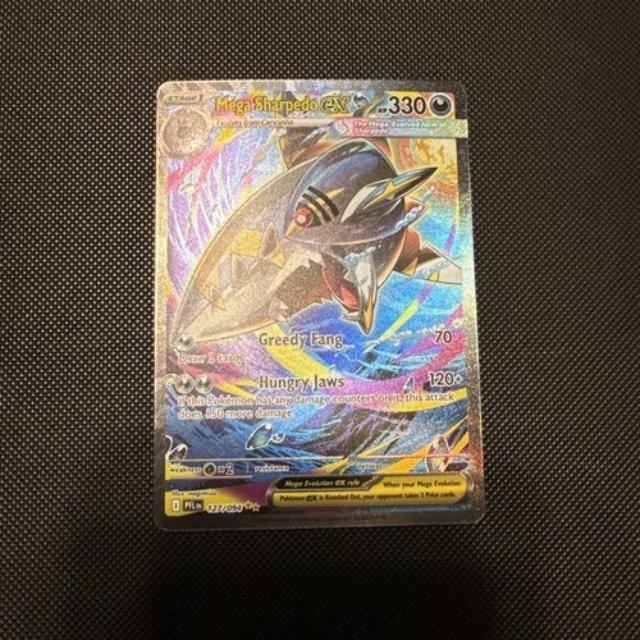Card: (149, 78, 487, 537)
Name: (192, 91, 364, 115)
